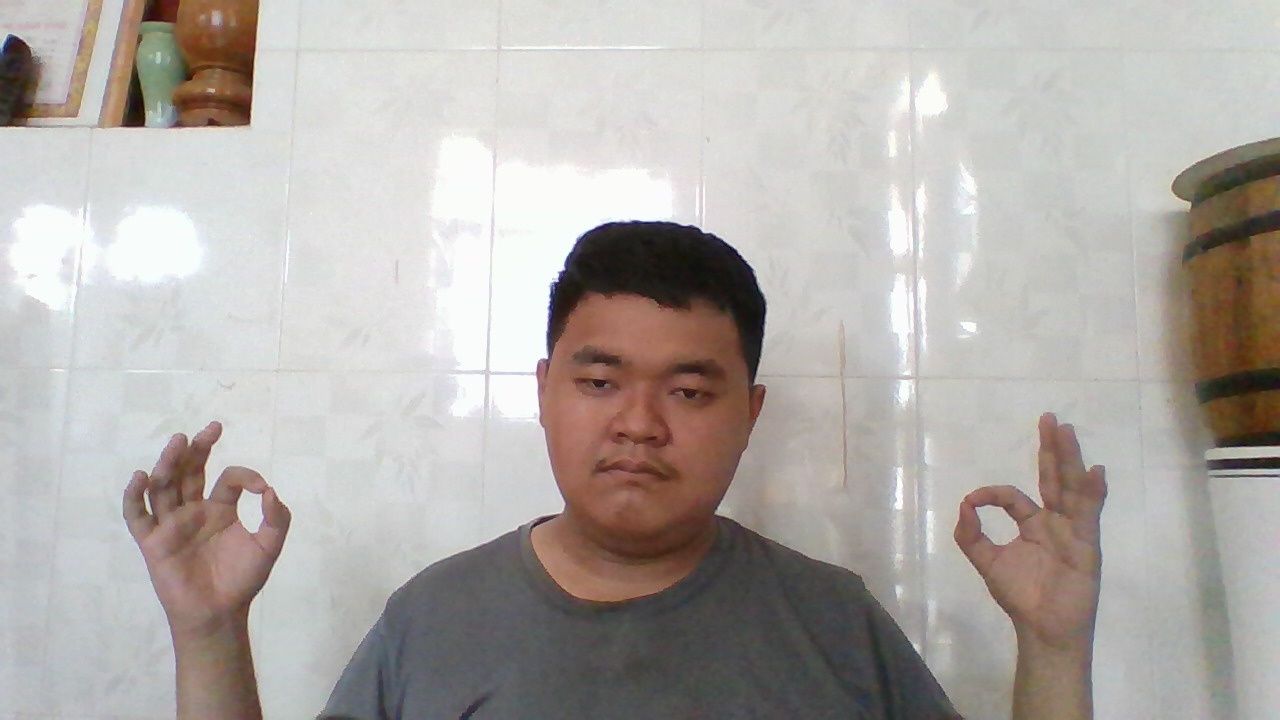T: (945, 403, 1112, 648), (118, 412, 296, 633)
